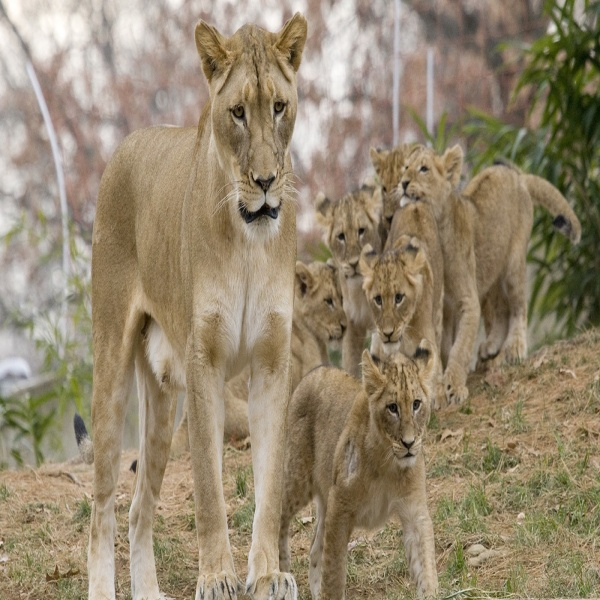Lion: (85, 9, 307, 600), (396, 136, 588, 364), (294, 338, 446, 598), (362, 201, 449, 409), (313, 176, 396, 334), (294, 255, 351, 374)
